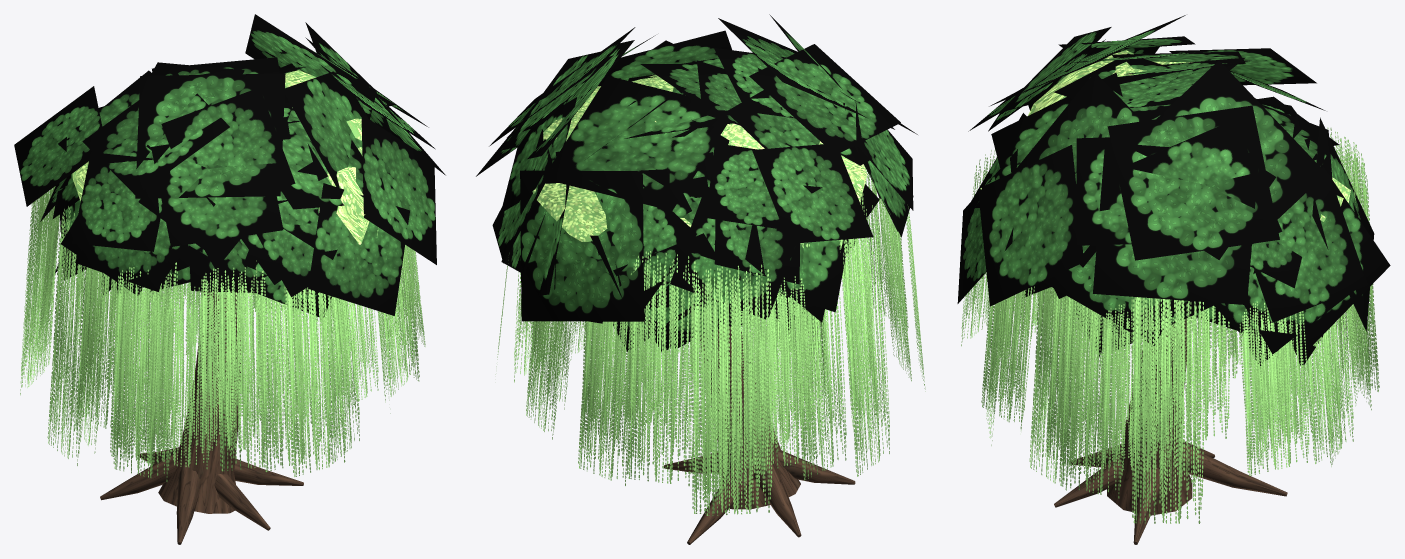
The model's file is tree_willow.gltf.
3 views of the same model, side by side, from view 1: azimuth 30°, elevation 25°; view 2: azimuth 150°, elevation 25°; view 3: azimuth 270°, elevation 25° (orthographic). The views are drawn at different scales.
Parts seen in each view (by area): view 1: Crown, Trunk; view 2: Crown, Trunk; view 3: Crown, Trunk.
Part boxes in pixels (left/top/right/bottom): Crown: left=14, top=14, right=445, bottom=481; Trunk: left=100, top=291, right=303, bottom=544; Crown: left=476, top=14, right=925, bottom=515; Trunk: left=664, top=326, right=855, bottom=544; Crown: left=957, top=15, right=1390, bottom=523; Trunk: left=1054, top=317, right=1287, bottom=544.
Bounding box in the file's own units: 6.45 × 7.45 × 6.08.
Materials: 4 (4 with a texture image).
